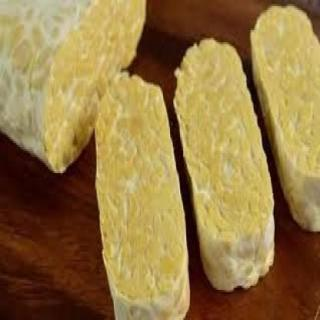Tempe: (172, 36, 279, 297)
